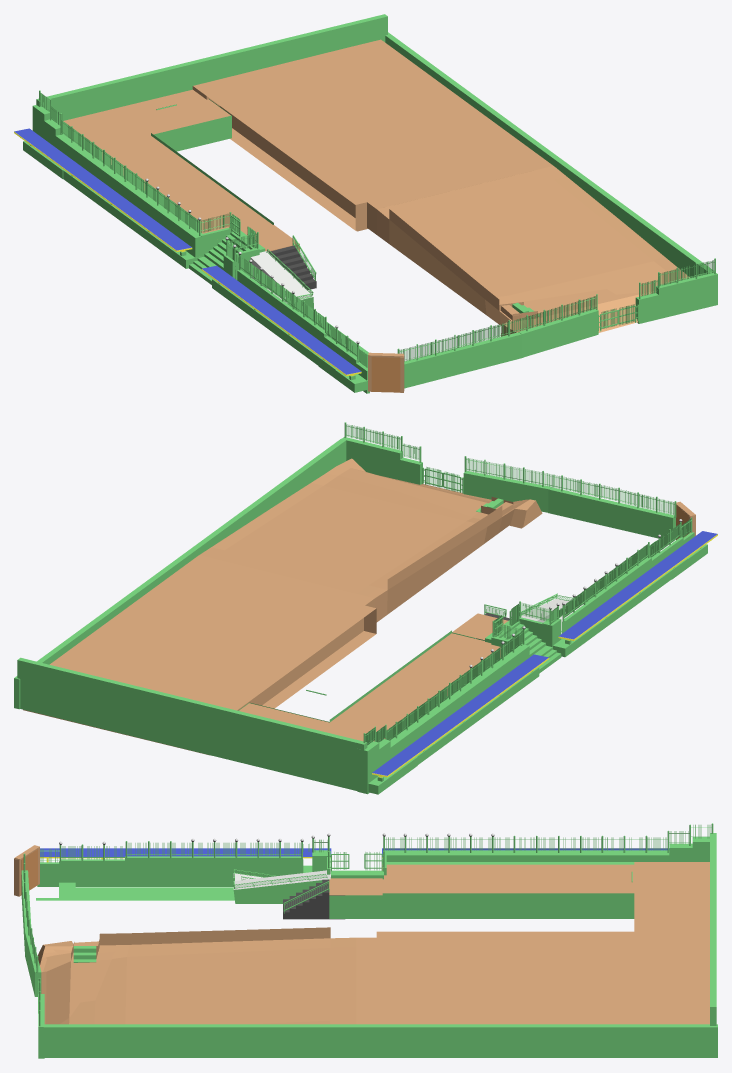
The model's file is batasanFlooring.glb.
3 renders of one model, top to bottom at view 1: azimuth 30°, elevation 25°; view 2: azimuth 150°, elevation 25°; view 3: azimuth 270°, elevation 25°, orthographic. The views are drawn at different scales.
Parts seen in each view (by area): view 1: Cube.400; view 2: Cube.400; view 3: Cube.400.
Boxes of the visible parts, <box> form: Cube.400: <box>14,14,717,393</box>; Cube.400: <box>14,422,717,794</box>; Cube.400: <box>14,823,717,1058</box>.
Size of the model in its own units: 24.16 by 3.84 by 38.42.
